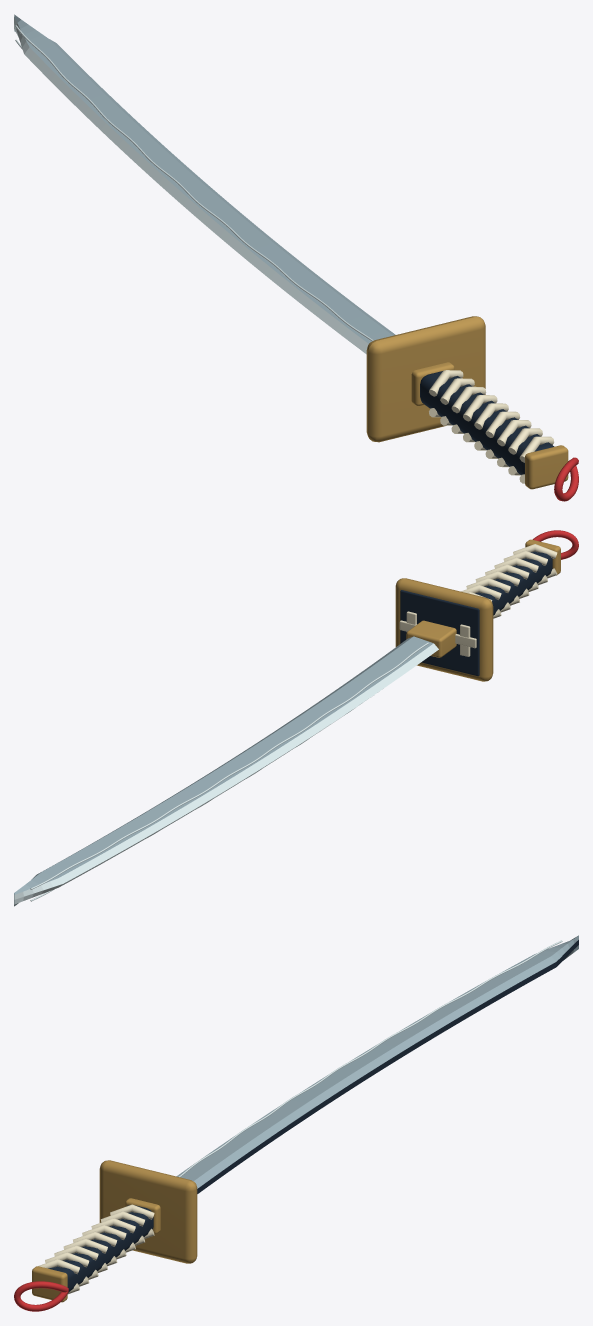
Rendered from kikoku.glb.
3 views of the same model, one above another, from view 1: azimuth 30°, elevation 25°; view 2: azimuth 150°, elevation 25°; view 3: azimuth 330°, elevation 25° (orthographic). The views are drawn at different scales.
Parts seen in each view (by area): view 1: kikoku; view 2: kikoku; view 3: kikoku.
Boxes of the visible parts, x1,y1,x2,y2 form: kikoku: (14, 14, 578, 501); kikoku: (14, 530, 578, 906); kikoku: (14, 935, 578, 1311).
Size of the model in its own units: 0.304 by 0.24 by 2.66.
